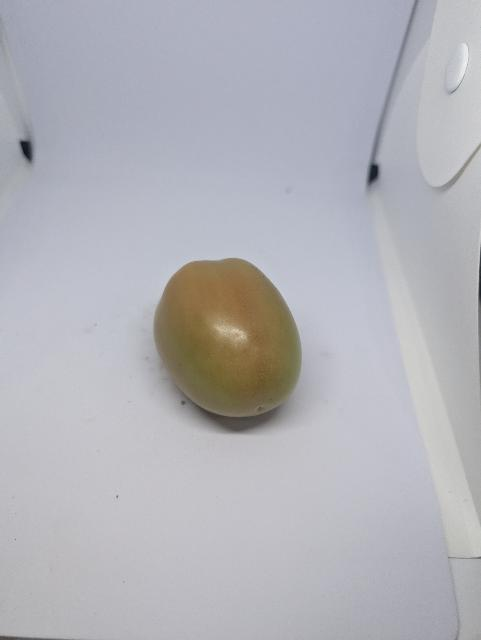breaker: (154, 258, 302, 417)
